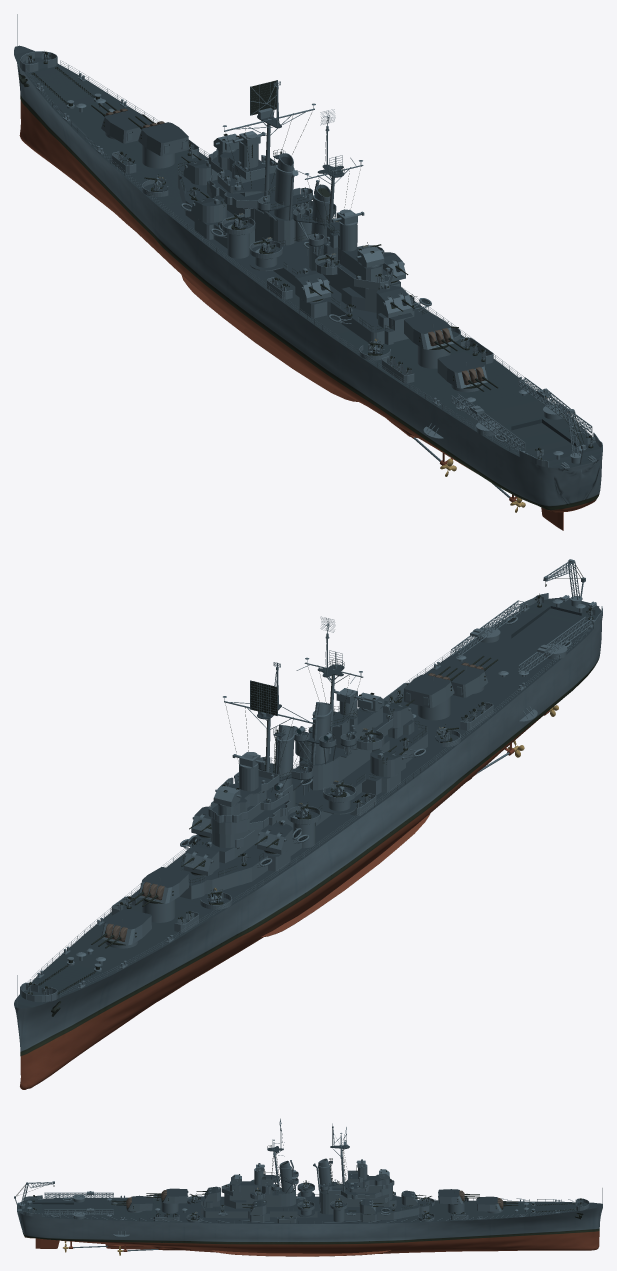
File: cleveland.glb
3 renders of one model, top to bottom at view 1: azimuth 30°, elevation 25°; view 2: azimuth 150°, elevation 25°; view 3: azimuth 270°, elevation 25°, orthographic. The views are drawn at different scales.
Parts seen in each view (by area): view 1: Blueprint lofted hull, after-deckhouse.mesh, deck-rail.mesh, bilge-keel-port.mesh, main-2.yaw.mesh, forward-deckhouse.mesh, forward-funnel.mesh, main-4.yaw.mesh, catapult-port.mesh, main-3.yaw.mesh, main-1.yaw.mesh, after-bridge-upper-platform.mesh (+15 smaller); view 2: Blueprint lofted hull, forward-deckhouse.mesh, deck-rail.mesh, after-deckhouse.mesh, main-3.yaw.mesh, bilge-keel-port.mesh, main-1.yaw.mesh, main-2.yaw.mesh, catapult-port.mesh, catapult-starboard.mesh, forward-funnel.mesh, center-deckhouse-roof.mesh (+13 smaller); view 3: Blueprint lofted hull, forward-deckhouse.mesh, after-deckhouse.mesh, deck-rail.mesh, bilge-keel-starboard.mesh, catapult-starboard.mesh, catapult-port.mesh, center-deckhouse-roof.mesh, after-bridge-lower.mesh, forward-funnel.mesh, forward-bridge-middle-platform.mesh, after-funnel.mesh (+21 smaller).
Part boxes in pixels (left/top/right/bottom): Blueprint lofted hull: left=14, top=45, right=602, bottom=512; after-deckhouse.mesh: left=299, top=281, right=422, bottom=345; deck-rail.mesh: left=26, top=60, right=592, bottom=455; bilge-keel-port.mesh: left=181, top=274, right=358, bottom=401; main-2.yaw.mesh: left=138, top=122, right=188, bottom=156; forward-deckhouse.mesh: left=177, top=167, right=254, bottom=248; forward-funnel.mesh: left=273, top=149, right=298, bottom=220; main-4.yaw.mesh: left=437, top=352, right=487, bottom=388; catapult-port.mesh: left=451, top=393, right=525, bottom=453; main-3.yaw.mesh: left=404, top=313, right=454, bottom=349; main-1.yaw.mesh: left=101, top=109, right=150, bottom=143; after-bridge-upper-platform.mesh: left=311, top=245, right=393, bottom=289; Blueprint lofted hull: left=14, top=597, right=602, bottom=1089; forward-deckhouse.mesh: left=180, top=831, right=301, bottom=899; deck-rail.mesh: left=28, top=607, right=592, bottom=996; after-deckhouse.mesh: left=299, top=726, right=427, bottom=795; main-3.yaw.mesh: left=404, top=674, right=454, bottom=707; bilge-keel-port.mesh: left=261, top=814, right=429, bottom=937; main-1.yaw.mesh: left=101, top=908, right=151, bottom=945; main-2.yaw.mesh: left=138, top=867, right=188, bottom=903; catapult-port.mesh: left=518, top=616, right=592, bottom=676; catapult-starboard.mesh: left=451, top=600, right=525, bottom=660; forward-funnel.mesh: left=273, top=725, right=298, bottom=791; center-deckhouse-roof.mesh: left=292, top=765, right=366, bottom=814; Blueprint lofted hull: left=17, top=1197, right=602, bottom=1253; forward-deckhouse.mesh: left=344, top=1196, right=429, bottom=1222; after-deckhouse.mesh: left=201, top=1196, right=269, bottom=1222; deck-rail.mesh: left=44, top=1195, right=575, bottom=1223; bilge-keel-starboard.mesh: left=211, top=1250, right=390, bottom=1256; catapult-starboard.mesh: left=44, top=1208, right=113, bottom=1219; catapult-port.mesh: left=44, top=1191, right=113, bottom=1202; center-deckhouse-roof.mesh: left=270, top=1192, right=319, bottom=1217; after-bridge-lower.mesh: left=224, top=1198, right=295, bottom=1208; forward-funnel.mesh: left=313, top=1158, right=332, bottom=1192; forward-bridge-middle-platform.mesh: left=319, top=1182, right=392, bottom=1199; after-funnel.mesh: left=279, top=1160, right=295, bottom=1192.
Size of the model in its own units: 20.42 by 44.97 by 185.
Materials: 11 (8 with a texture image).
